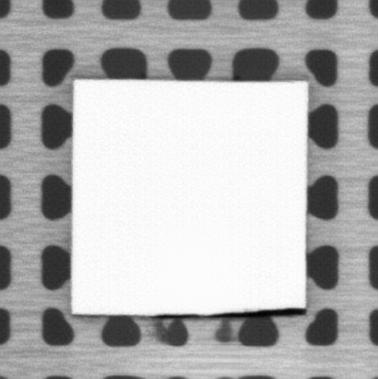DIE_BROKEN: (207, 306, 308, 317)
